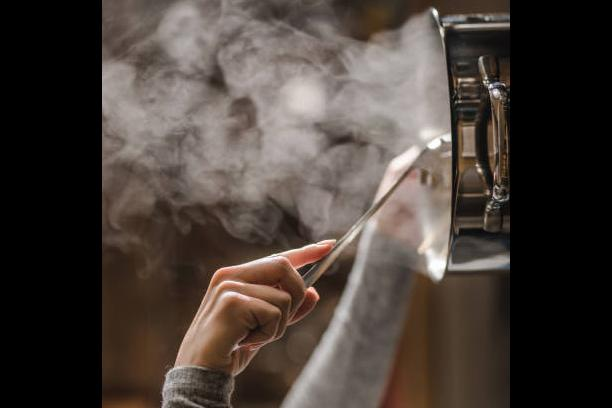controlled_fire: (154, 15, 438, 246)
